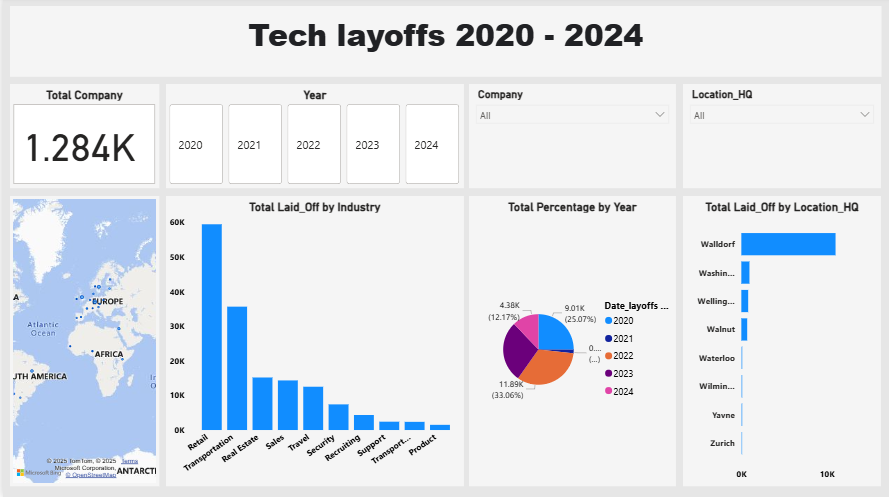

The page's visual inventory and layout, read from the dashboard file:
{"tool":"powerbi","page":{"name":"Page 1","canvas":[1280,720],"ordinal":0},"visuals":[{"type":"textbox","box":[10.1,13.4,1254.8,102.5],"z":0},{"type":"cardVisual","title":"Total Company","fields":{"Data":["Count(Sheet1.Company)"]},"box":[10.1,125.3,214.6,149.8],"z":1},{"type":"advancedSlicerVisual","fields":{"Values":["Sheet1.Year"]},"box":[234.7,125.3,429.1,149.8],"z":2},{"type":"map","fields":{"Category":["Sheet1.Country"],"Size":["Sum(Sheet1.Laid_Off)"]},"box":[10.1,286.6,214.6,417.6],"z":3},{"type":"clusteredColumnChart","title":"Total Laid_Off by Industry","fields":{"Category":["Sheet1.Industry"],"Y":["Sum(Sheet1.Laid_Off)"]},"box":[235,287,429,418],"z":4},{"type":"slicer","fields":{"Values":["Sheet1.Company"]},"box":[671,125.3,298.1,149.8],"z":5},{"type":"slicer","fields":{"Values":["Sheet1.Location_HQ"]},"box":[979.2,125.3,285.1,149.8],"z":6},{"type":"pieChart","title":"Total Percentage by Year","fields":{"Category":["Sheet1.Date_layoffs.Variation.Date Hierarchy.Year","Sheet1.Date_layoffs.Variation.Date Hierarchy.Quarter","Sheet1.Date_layoffs.Variation.Date Hierarchy.Month","Sheet1.Date_layoffs.Variation.Date Hierarchy.Day"],"Y":["Sum(Sheet1.Percentage)"]},"box":[671,287,298,418],"z":7},{"type":"clusteredBarChart","title":"Total Laid_Off by Location_HQ","fields":{"Category":["Sheet1.Location_HQ"],"Y":["Sum(Sheet1.Laid_Off)"]},"box":[979,287,285,418],"z":8}]}

Visuals, with their boxes in screenshot pixels (x1, y1, x2, y2), scaled from the page's 1280x720 canvas onto the 889x497 screenshot:
textbox: (7,9,879,80)
"Total Company" cardVisual: (7,86,156,190)
advancedSlicerVisual - Sheet1.Year: (163,86,461,190)
map - Sheet1.Country x Sum(Sheet1.Laid_Off): (7,198,156,486)
"Total Laid_Off by Industry" clusteredColumnChart: (163,198,461,487)
slicer - Sheet1.Company: (466,86,673,190)
slicer - Sheet1.Location_HQ: (680,86,878,190)
"Total Percentage by Year" pieChart: (466,198,673,487)
"Total Laid_Off by Location_HQ" clusteredBarChart: (680,198,878,487)
